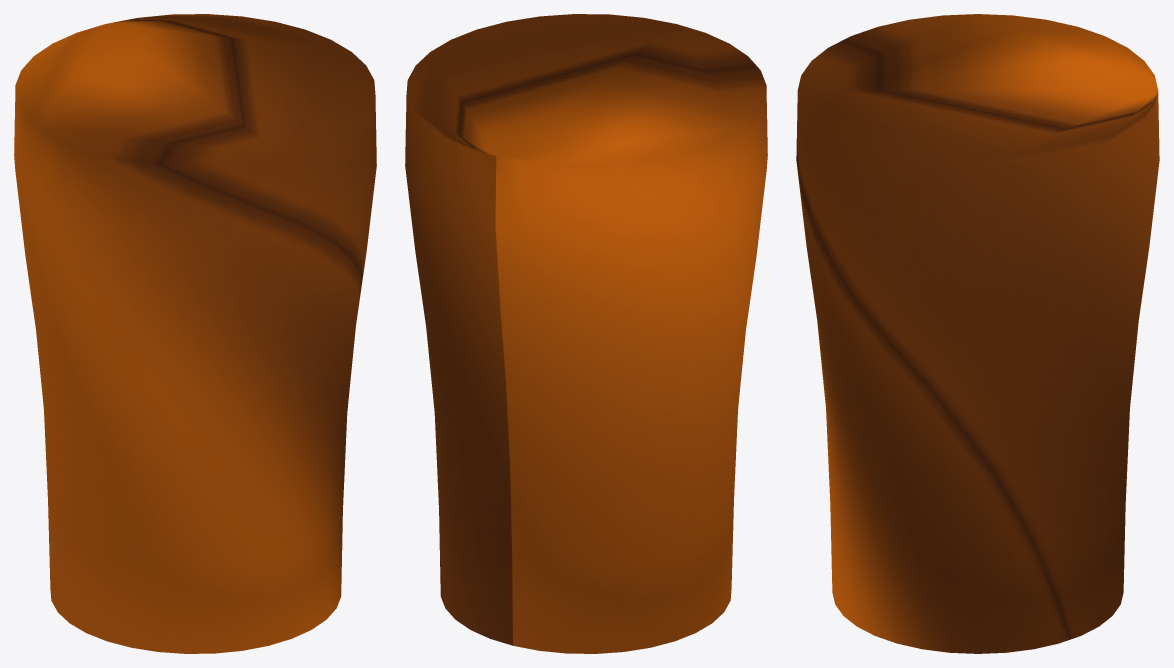
Rendered from vaso_cerveza_liquido_normales.glb.
3 renders of one model, left to right at view 1: azimuth 30°, elevation 25°; view 2: azimuth 150°, elevation 25°; view 3: azimuth 270°, elevation 25°, orthographic.
Visible parts, largest first — view 1: vaso_cerveza_test.002; view 2: vaso_cerveza_test.002; view 3: vaso_cerveza_test.002.
Boxes of the visible parts, x1=… form: vaso_cerveza_test.002: x1=14, y1=14, x2=376, y2=653; vaso_cerveza_test.002: x1=405, y1=14, x2=767, y2=653; vaso_cerveza_test.002: x1=796, y1=14, x2=1159, y2=653.
Bounding box in the file's own units: 1.13 × 1.73 × 1.13.
Materials: 1 (1 with a texture image).
